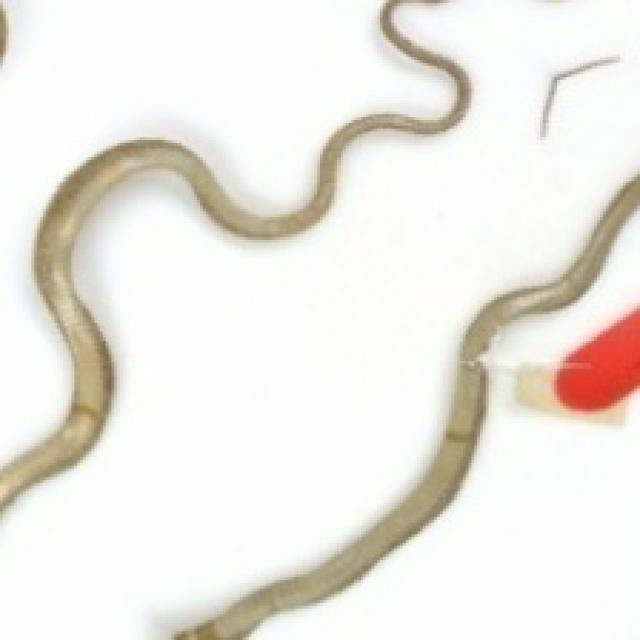mullers wolf snake: (0, 0, 637, 637), (0, 0, 451, 463), (251, 214, 637, 637)
